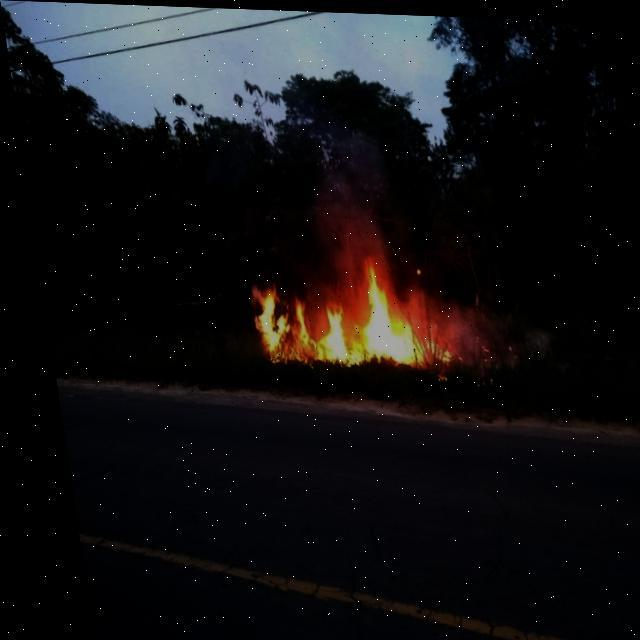Fire: (236, 246, 413, 371)
